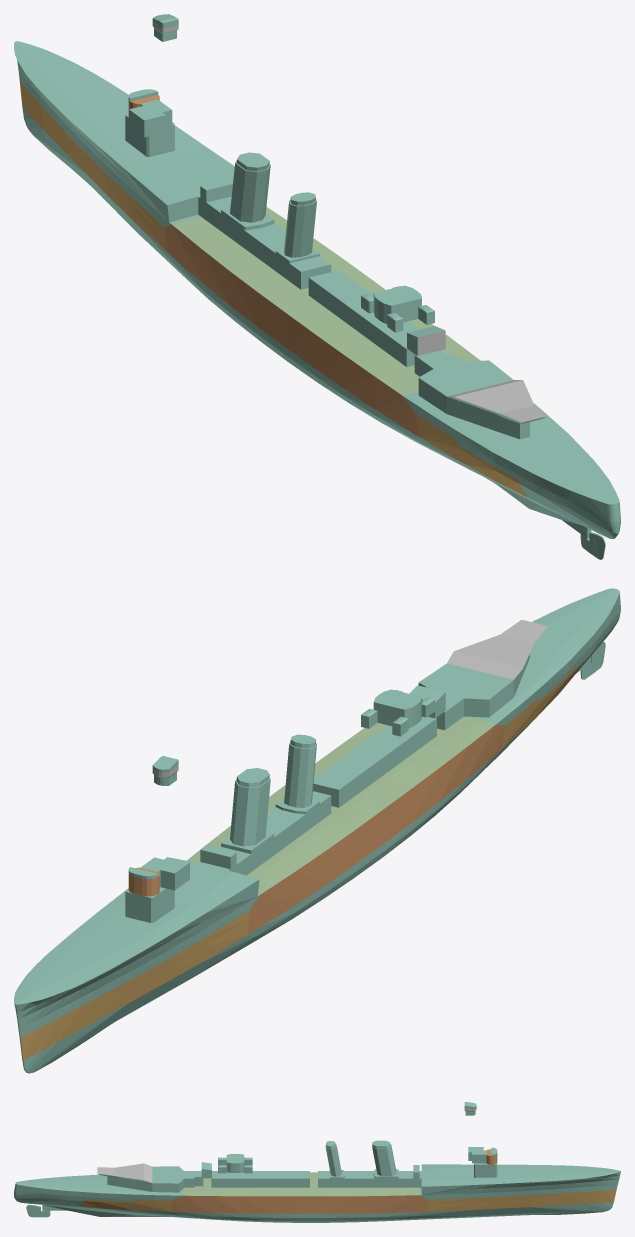
Rendered from PBSC103_armor.glb.
3 renders of one model, top to bottom at view 1: azimuth 30°, elevation 25°; view 2: azimuth 150°, elevation 25°; view 3: azimuth 270°, elevation 25°, orthographic. The views are drawn at different scales.
Visible parts, largest first — view 1: armor; view 2: armor; view 3: armor.
Boxes of the visible parts, x1=… form: armor: x1=14, y1=14, x2=620, y2=559; armor: x1=14, y1=588, x2=620, y2=1073; armor: x1=14, y1=1102, x2=620, y2=1222.
Size of the model in its own units: 18.93 by 41.05 by 200.
